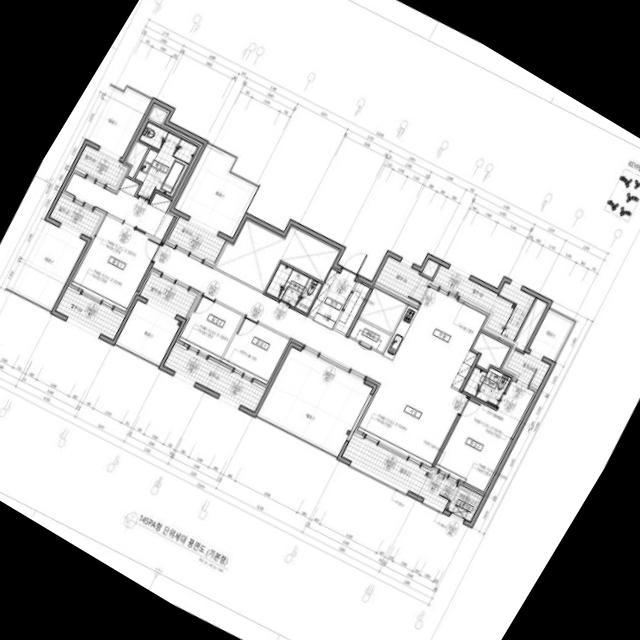background: (0, 0, 640, 640)
space_balconi: (257, 347, 372, 455), (342, 434, 456, 509), (432, 265, 535, 340), (174, 145, 257, 237), (163, 344, 265, 411), (116, 300, 181, 364), (55, 288, 124, 339), (168, 217, 225, 262), (140, 273, 196, 318), (375, 256, 428, 303), (49, 195, 101, 237), (529, 311, 572, 361), (75, 145, 124, 187), (506, 350, 550, 387)
space_bedroom: (435, 380, 534, 491), (71, 215, 160, 311), (221, 317, 289, 384), (179, 295, 242, 360)
space_front: (308, 269, 356, 329)
space_kitchen: (383, 287, 486, 389)
space_living_room: (152, 244, 466, 467)
space_other: (215, 220, 339, 291), (65, 173, 173, 239), (359, 287, 407, 333), (335, 282, 369, 334), (515, 298, 547, 351), (472, 332, 510, 369), (349, 319, 390, 352), (126, 141, 148, 177), (148, 106, 167, 125), (421, 259, 439, 278)
space_outdoor_room: (446, 484, 483, 521)
space_toilet: (135, 122, 197, 200), (266, 263, 321, 313), (463, 367, 510, 407)
